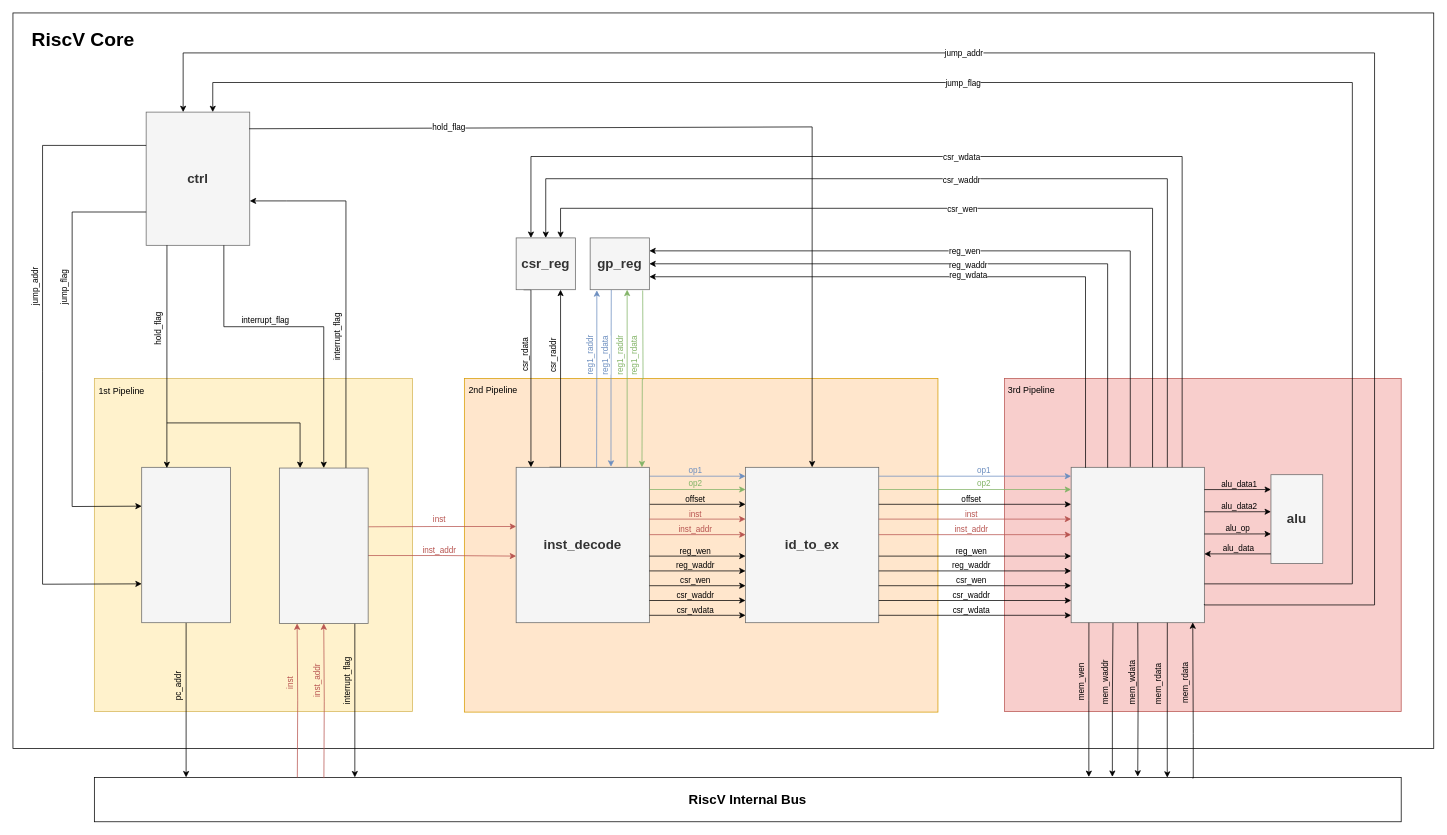
The diagram is 1447 pixels wide and 835 high, and some of its shapes have lost their labels. Each missing label, with the centre of its shape:
"inst_execute" goes at pixel 1137 545.
"inst_fetch" goes at pixel 323 545.
"pc_reg" goes at pixel 186 545.
